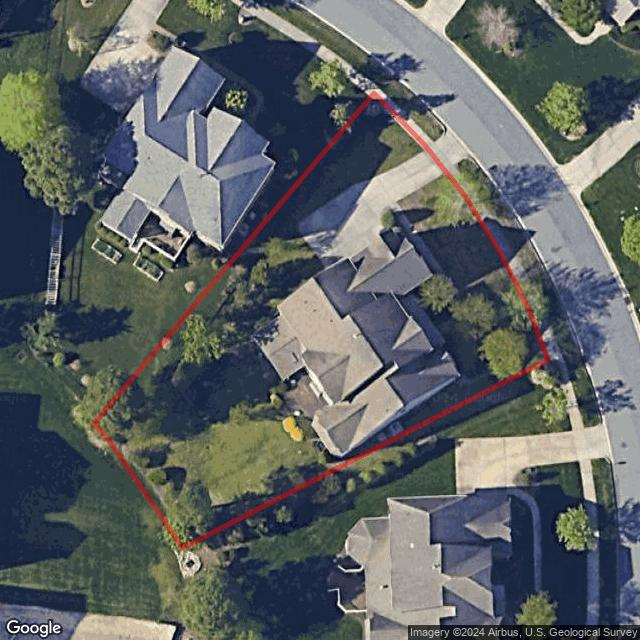Driveway: (294, 151, 444, 271)
Extra-Driveway: (427, 130, 469, 174)
Extra-Lawn: (457, 156, 578, 354), (380, 75, 446, 143)
Extra-Sidewalk: (447, 165, 563, 361), (370, 87, 434, 151)
House: (262, 225, 461, 459)
Lawn: (94, 94, 548, 549)
Other: (281, 366, 329, 418)
Sidewalk: (390, 200, 464, 326)
